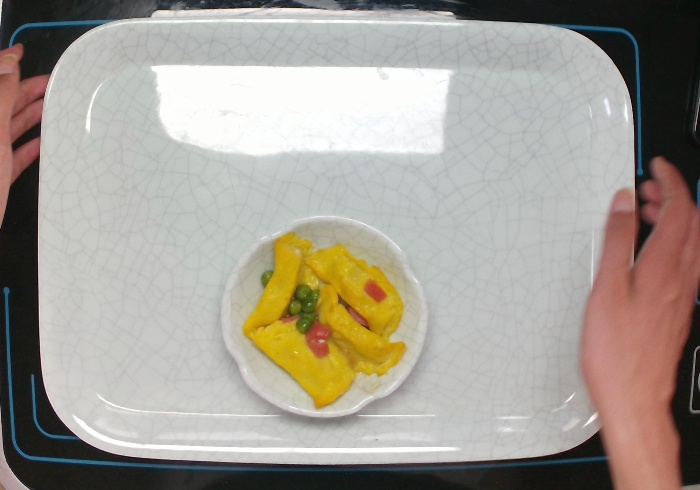JYsf-Ao_Yuan_Wan: (219, 213, 431, 421)
